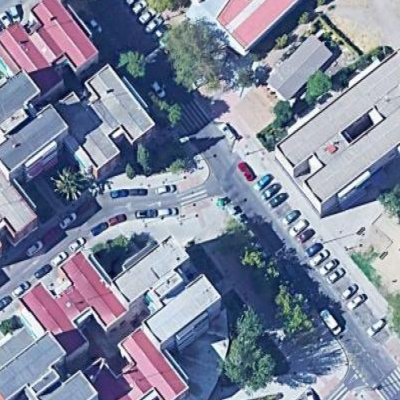tree: (223, 308, 275, 392), (162, 21, 220, 87), (276, 284, 316, 342), (119, 50, 149, 84), (305, 71, 336, 103), (272, 98, 297, 125)
